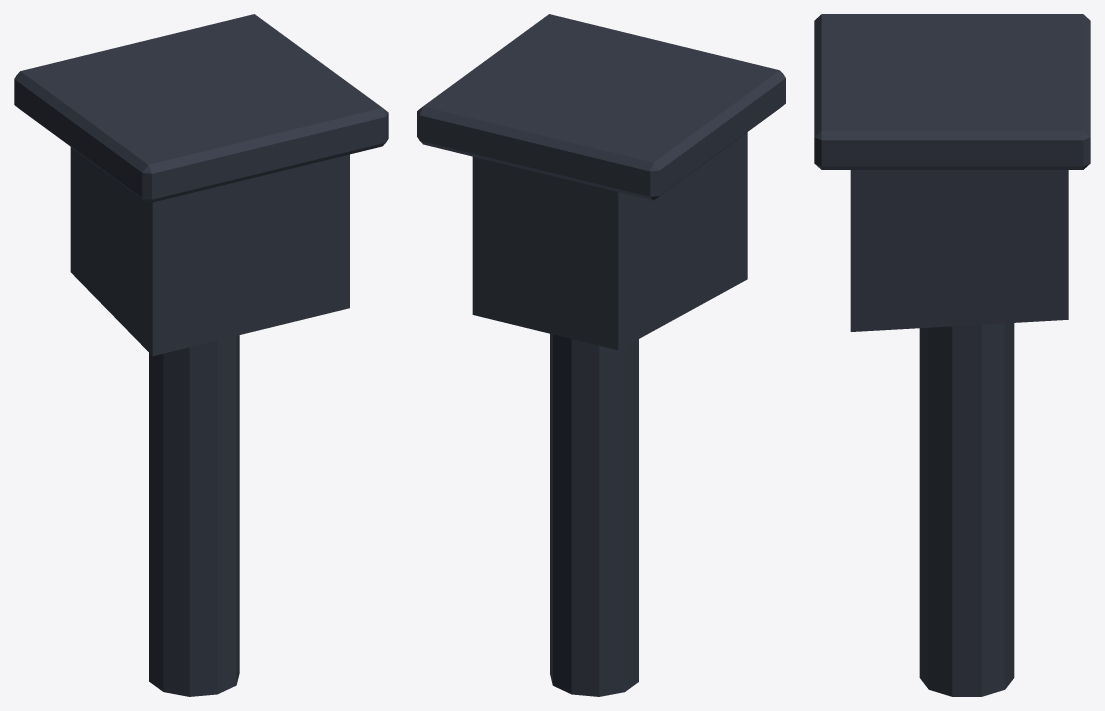
The model's file is drain_hopper.glb.
3 renders of one model, left to right at view 1: azimuth 30°, elevation 25°; view 2: azimuth 150°, elevation 25°; view 3: azimuth 270°, elevation 25°, orthographic. The views are drawn at different scales.
Parts seen in each view (by area): view 1: drain_hopper; view 2: drain_hopper; view 3: drain_hopper.
Boxes of the visible parts, bbox=[...] form: drain_hopper: bbox=[14, 14, 388, 696]; drain_hopper: bbox=[417, 14, 785, 696]; drain_hopper: bbox=[814, 14, 1090, 696].
Size of the model in its own units: 0.4 by 0.92 by 0.38.
1 material, 1 textured.
